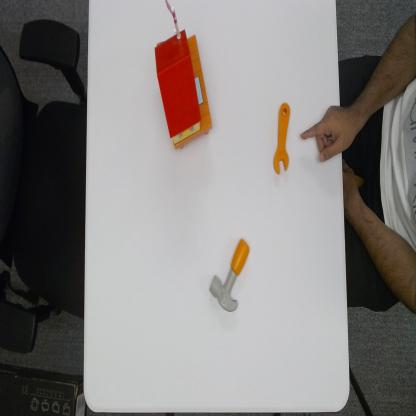Hammer: (209, 237, 251, 315)
Hand: (300, 104, 343, 164)
House: (152, 0, 214, 152)
Screwdriver: (272, 100, 291, 175)
